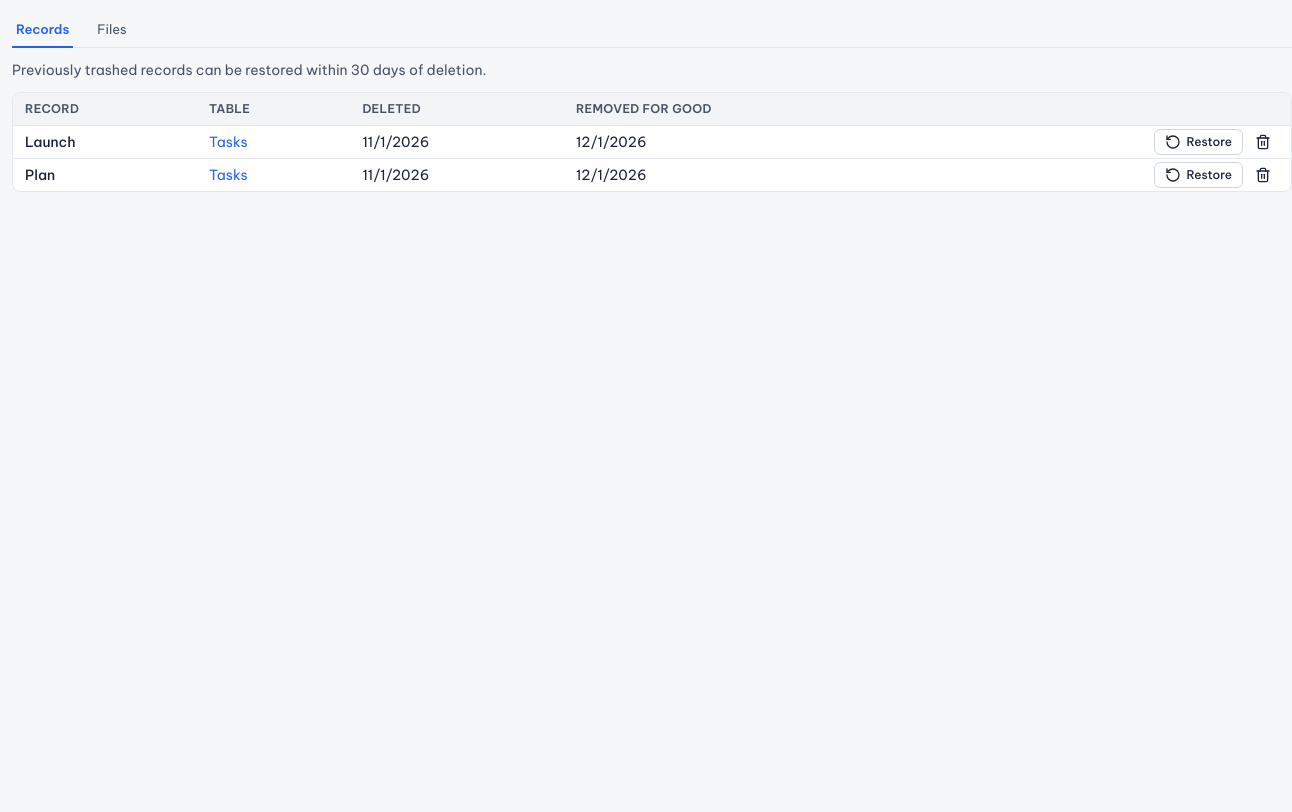
Test: TrashScreen › asks first, then removes a record for good and takes it off the list
The image size is (1292, 812).
Click the button named "Delete Launch forever" at (1263, 142), box [1247,126,1279,158]
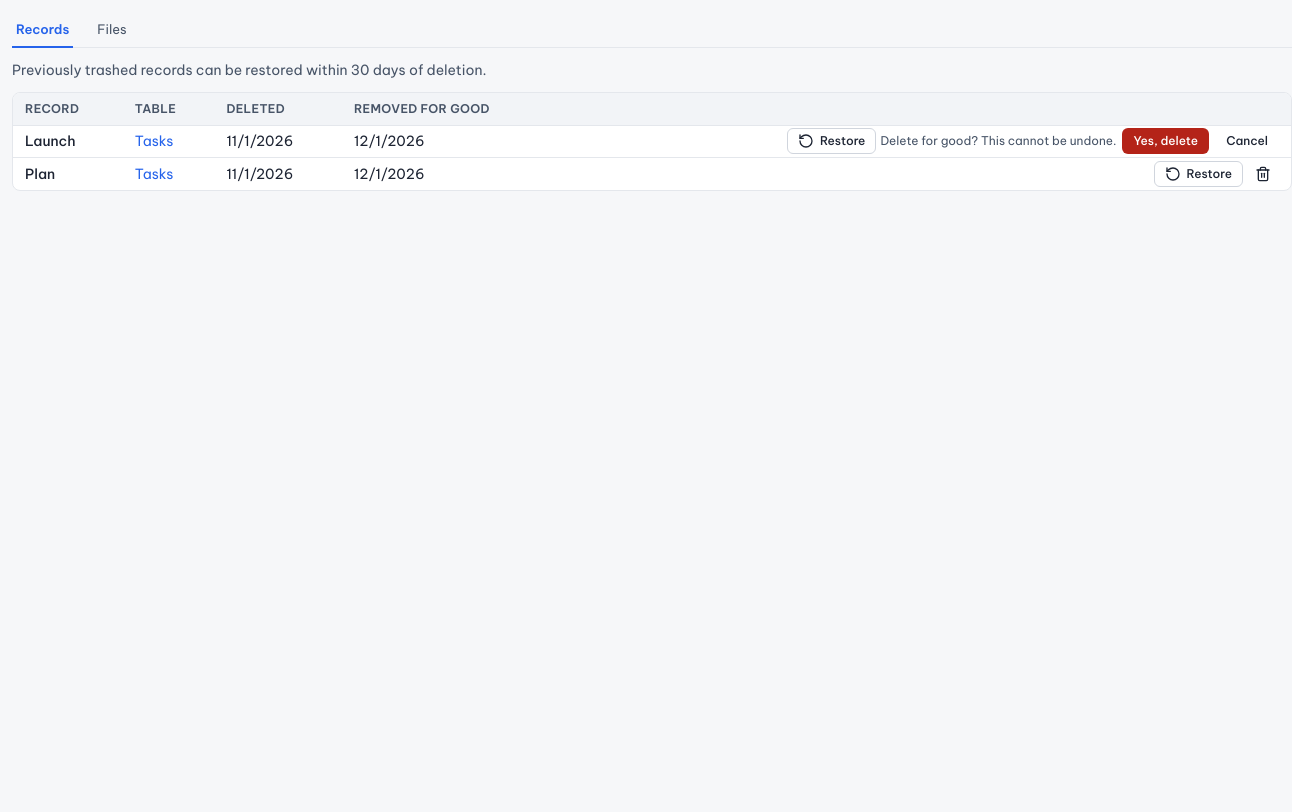
Click the button "Yes, delete" at (1166, 141), box [1122,128,1209,154]
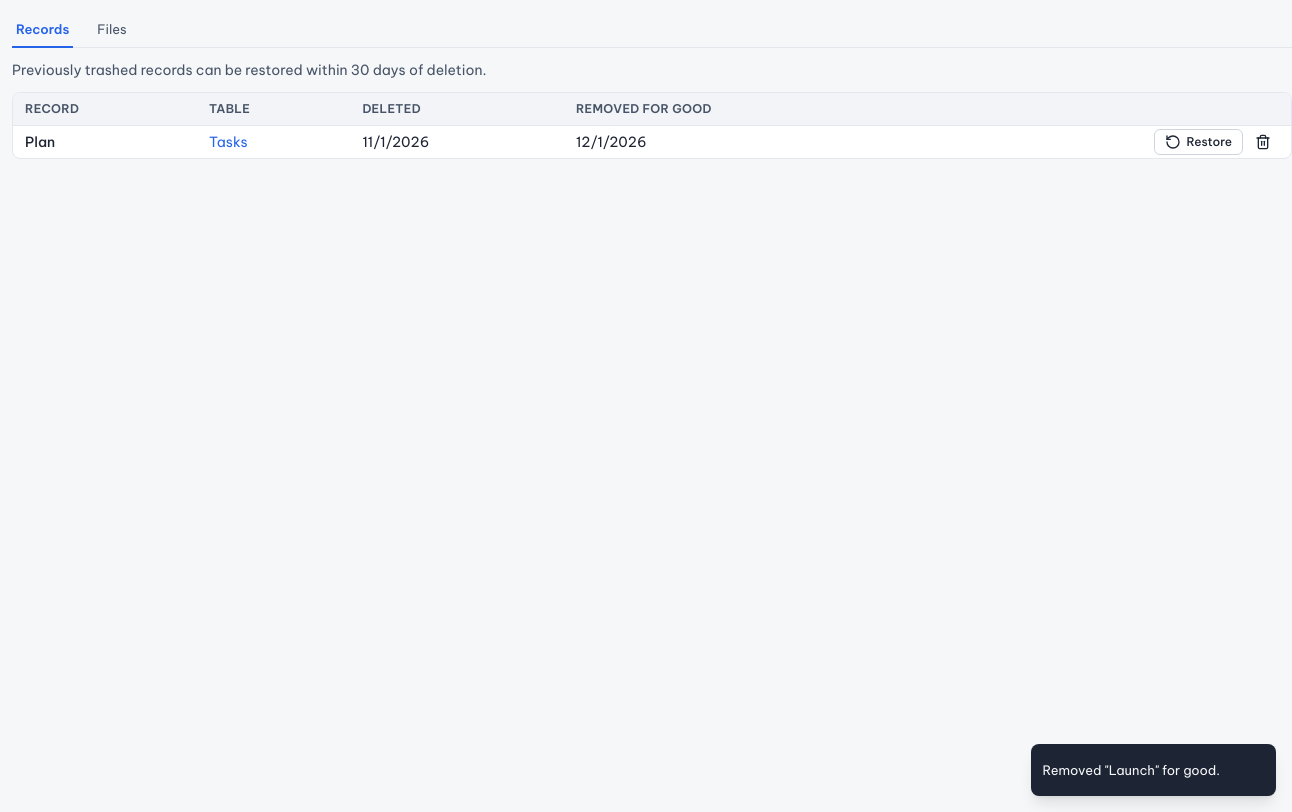
Expected: the text "Plan" is shown, [13,125,197,158]
Result: the text "Removed \"Launch\" for good." is shown at [1043,760,1220,780]
